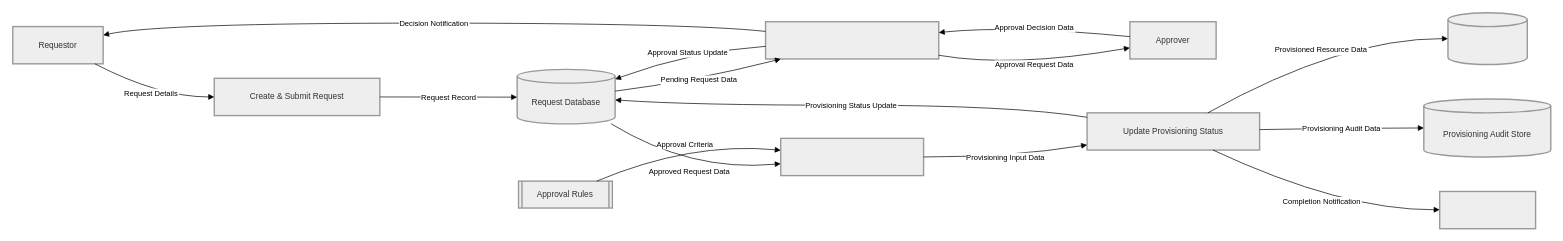
Some shapes in this 1563 by 241 pixel diagram are drawn without their labels. Each missing label, with the box of its shape:
Perform Provisioning: (780, 137, 924, 176)
Provisioner: (1439, 190, 1536, 229)
Review & Approve Request: (765, 21, 939, 59)
Target System: (1447, 12, 1528, 65)
